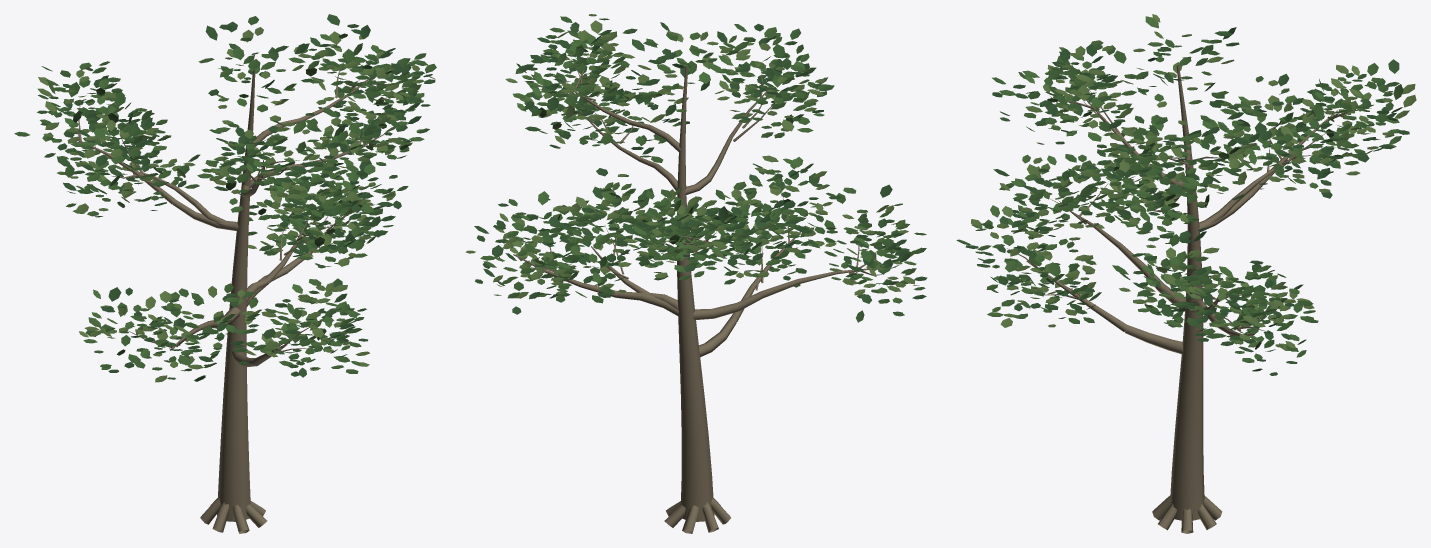
Rendered from Chene_Ancien_0_Low.fbx.
3 views of the same model, side by side, from view 1: azimuth 30°, elevation 25°; view 2: azimuth 150°, elevation 25°; view 3: azimuth 270°, elevation 25° (orthographic). The views are drawn at different scales.
Parts seen in each view (by area): view 1: Chene_Ancien_0_Low; view 2: Chene_Ancien_0_Low; view 3: Chene_Ancien_0_Low.
Part boxes in pixels (box(x1,y1,x2,y2)): Chene_Ancien_0_Low: box(14, 14, 436, 533); Chene_Ancien_0_Low: box(465, 14, 927, 533); Chene_Ancien_0_Low: box(956, 14, 1416, 533).
Size of the model in its own units: 779 by 967 by 805.
